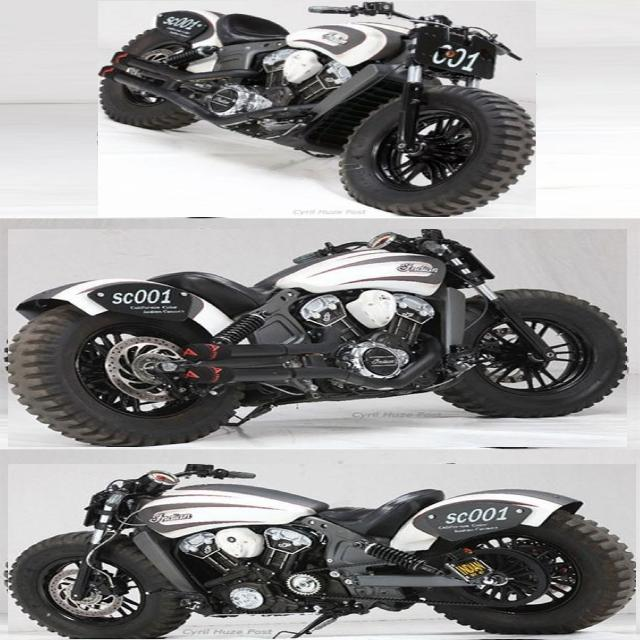motorcycle: (8, 230, 626, 447), (8, 464, 635, 639), (98, 1, 536, 217)
